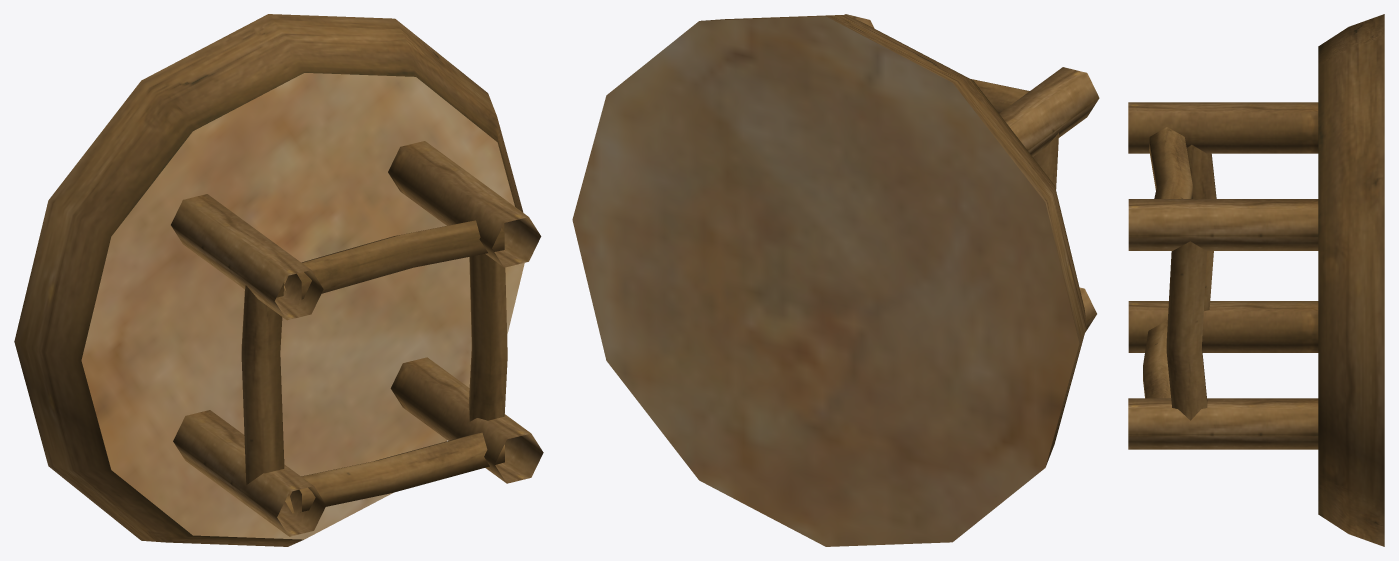
The model's file is Log_Table_B.fbx.
3 views of the same model, side by side, from view 1: azimuth 30°, elevation 25°; view 2: azimuth 150°, elevation 25°; view 3: azimuth 270°, elevation 25° (orthographic). The views are drawn at different scales.
Parts seen in each view (by area): view 1: Log_Table_B; view 2: Log_Table_B; view 3: Log_Table_B.
Part boxes in pixels (x1,y1,x2,y2): Log_Table_B: (14, 14, 543, 546); Log_Table_B: (572, 14, 1099, 546); Log_Table_B: (1128, 14, 1384, 546).
Bounding box in the file's own units: 15.41 × 15.41 × 7.37.
